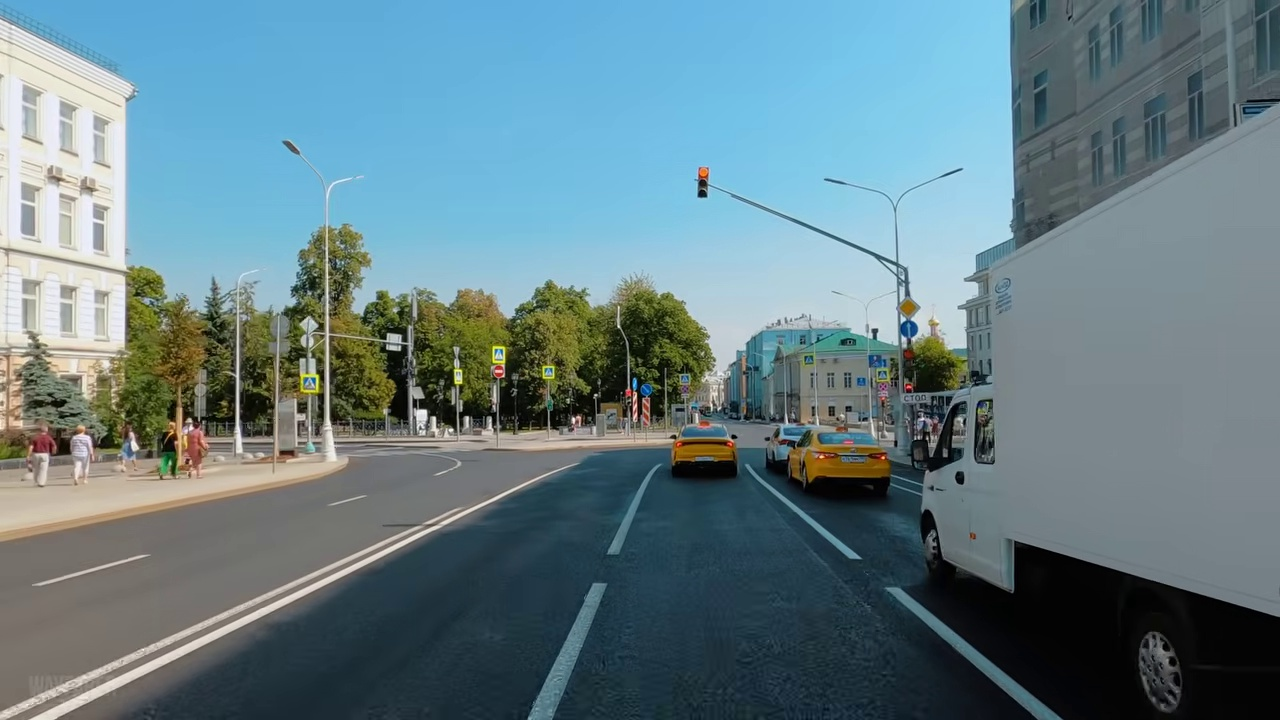apagada: (935, 162, 963, 185), (277, 136, 303, 159)
